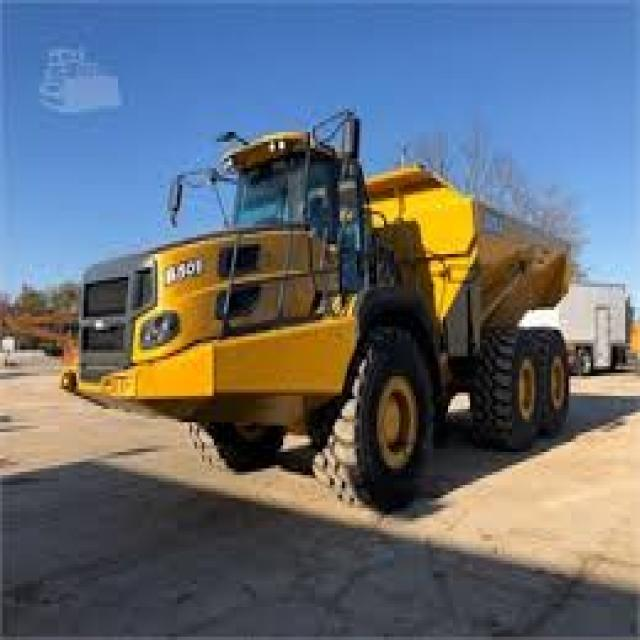dump_truck: (59, 109, 611, 515)
